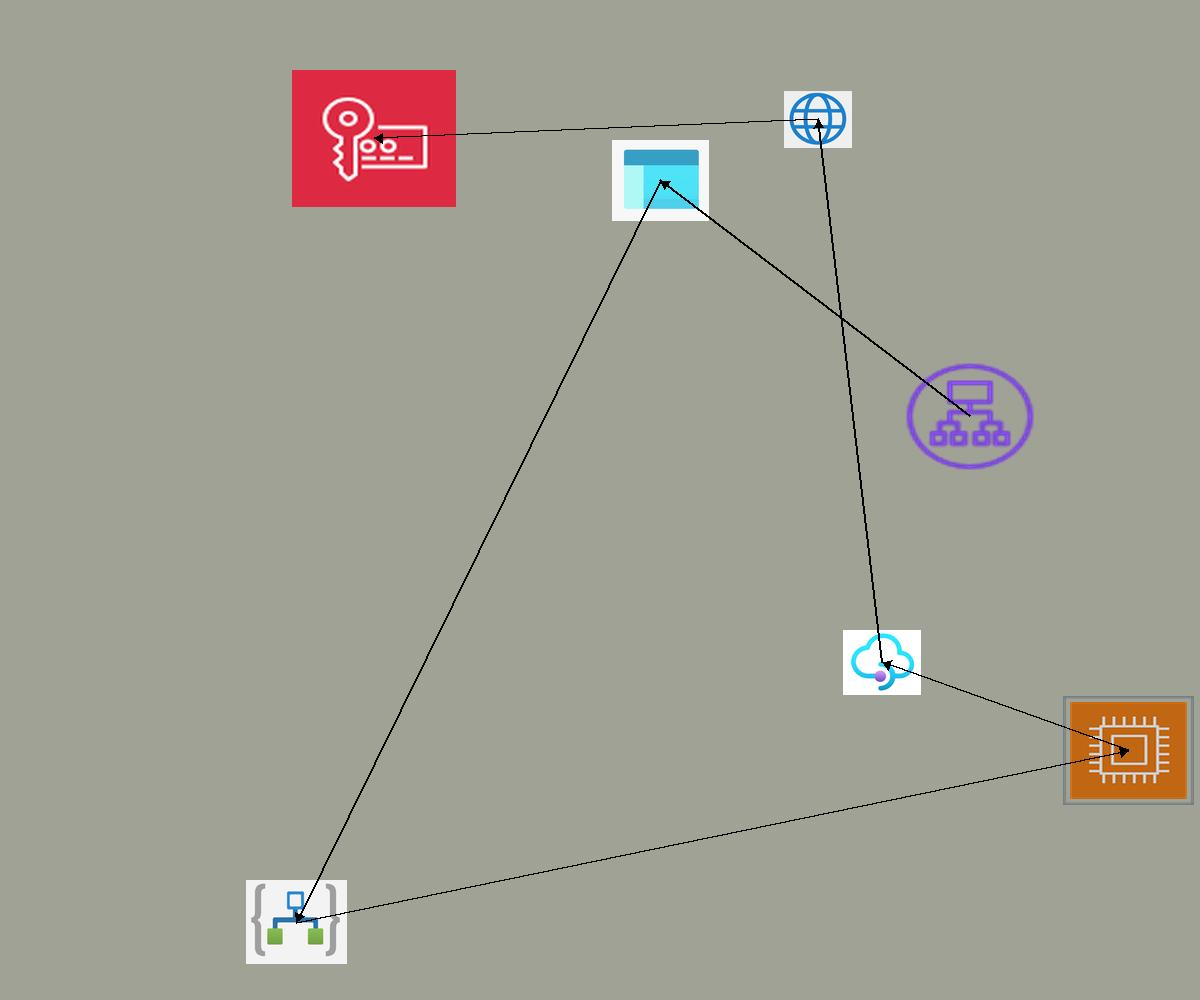AWS-Category_Compute: (1063, 696, 1194, 805)
AWS-Key-Management-Service: (292, 70, 456, 207)
AWS-Res_Elastic-Load-Balancing_Application-Load-Balancer: (901, 359, 1039, 474)
Azure_api_gateway: (843, 630, 921, 695)
Azure_http: (784, 91, 852, 148)
Azure_integration-204-Logic-Apps: (246, 880, 347, 964)
Azure_management-portal: (612, 140, 709, 221)
